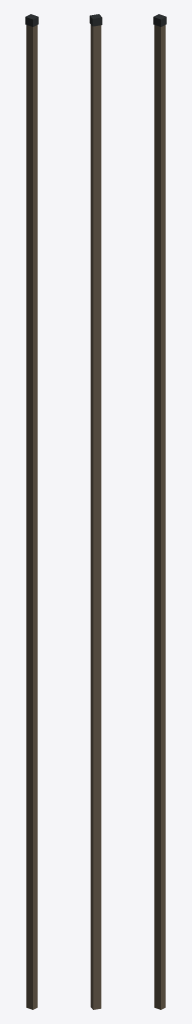
Rendered from SM_Prop_RopeSlide_Raised_01.glb.
The picture shows the model from 3 angles, left to right: view 1: azimuth 90°, elevation 25°; view 2: azimuth 150°, elevation 25°; view 3: azimuth 270°, elevation 25°; orthographic projection.
Parts seen in each view (by area): view 1: SM_Prop_RopeSlide_Raised_01; view 2: SM_Prop_RopeSlide_Raised_01; view 3: SM_Prop_RopeSlide_Raised_01.
Part boxes in pixels (left/top/right/bottom): SM_Prop_RopeSlide_Raised_01: left=25, top=14, right=38, bottom=1009; SM_Prop_RopeSlide_Raised_01: left=89, top=14, right=102, bottom=1009; SM_Prop_RopeSlide_Raised_01: left=153, top=14, right=166, bottom=1009.
Bounding box in the file's own units: 0.05 × 4.13 × 0.0512.
Materials: 1 (1 with a texture image).
